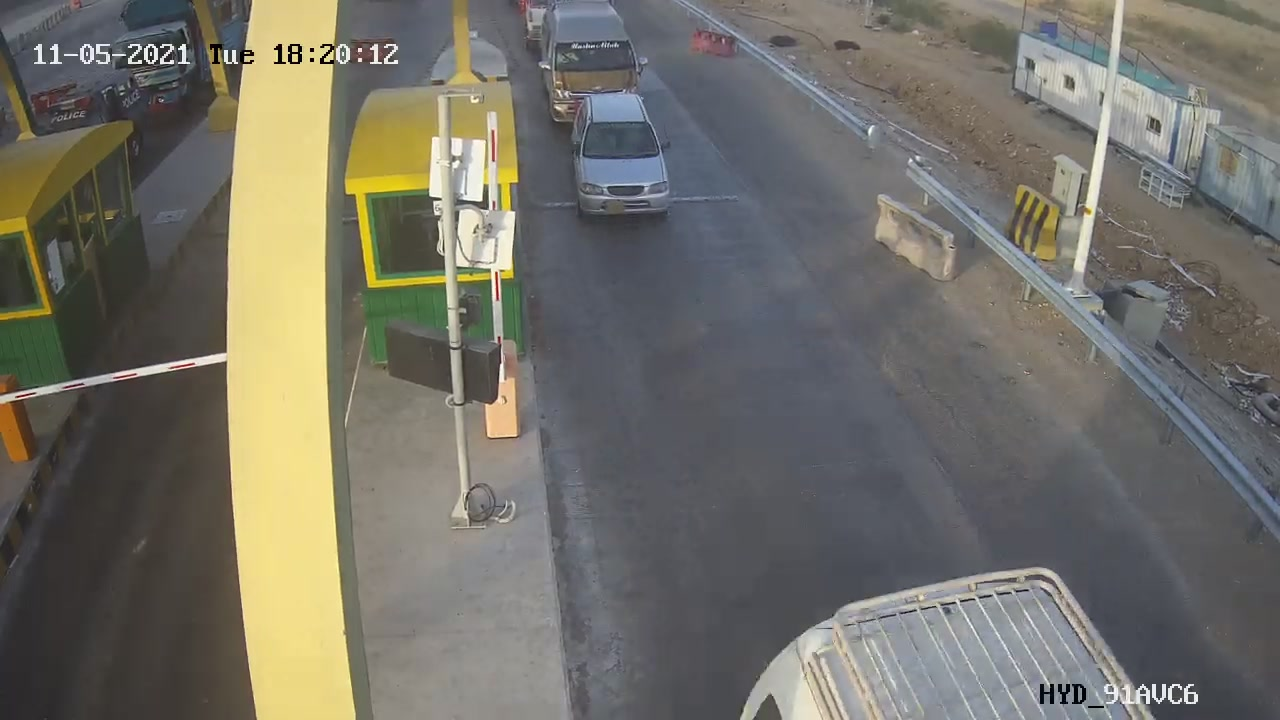F1: (570, 91, 680, 219)
